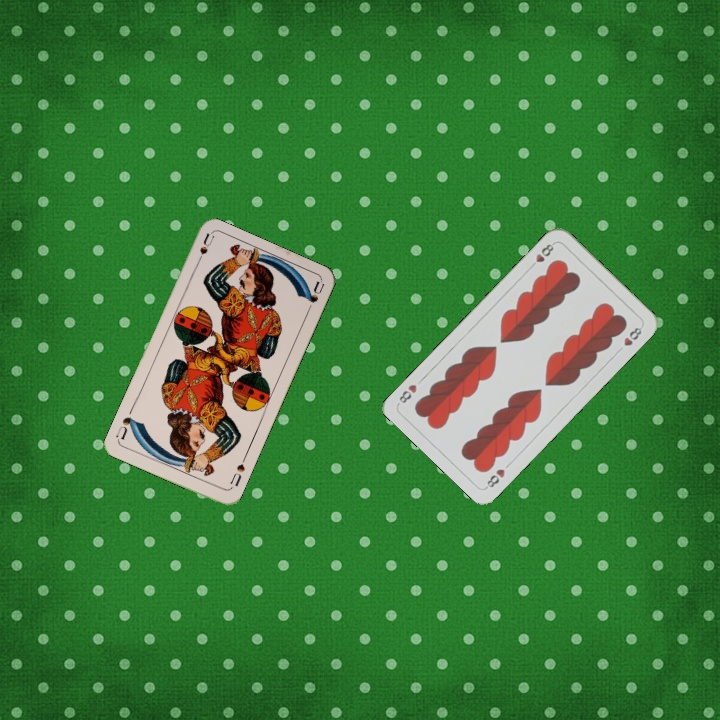H8: (526, 239, 558, 271), (482, 465, 508, 491)
SU: (191, 230, 216, 270), (226, 453, 248, 491)
